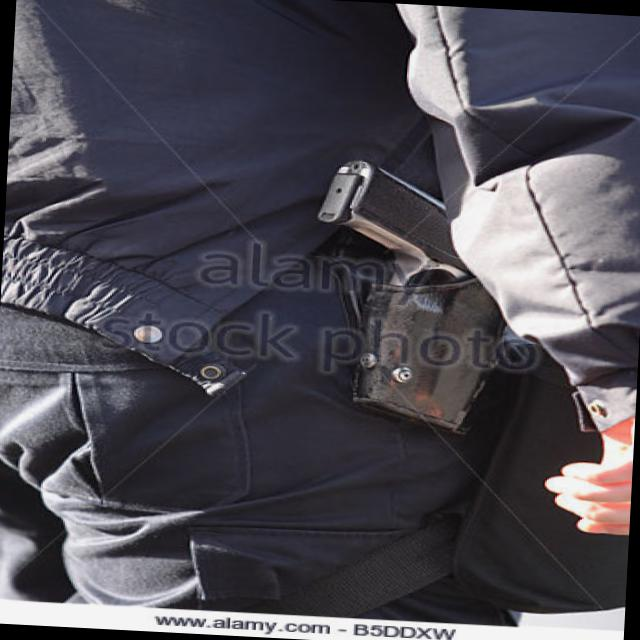handgun: (298, 150, 524, 437)
